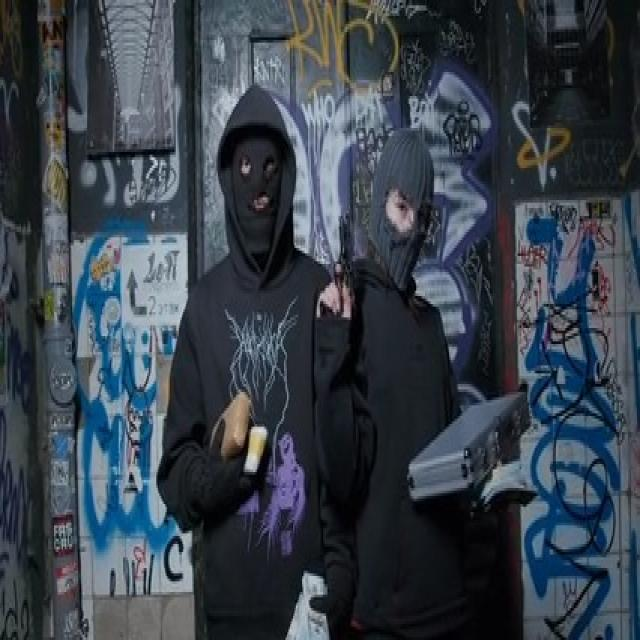Gun_Holder: (318, 208, 373, 350)
Person: (159, 82, 333, 640), (335, 112, 497, 640)
